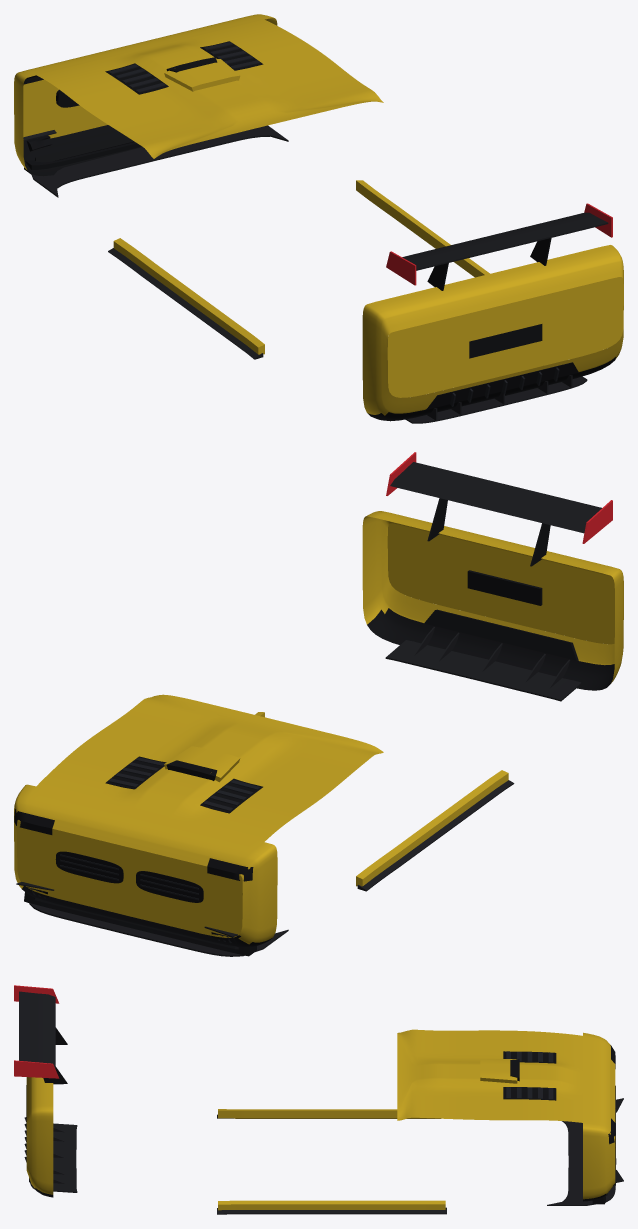
The model's file is kit_track.glb.
3 views of the same model, one above another, from view 1: azimuth 30°, elevation 25°; view 2: azimuth 150°, elevation 25°; view 3: azimuth 270°, elevation 25° (orthographic). The views are drawn at different scales.
Visible parts, largest first — view 1: bumper_front__track, hood__track, bumper_rear__track, skirts__track, spoiler__track; view 2: bumper_front__track, hood__track, bumper_rear__track, spoiler__track, skirts__track; view 3: hood__track, bumper_front__track, skirts__track, bumper_rear__track, spoiler__track.
Boxes of the visible parts, bbox=[...] form: bumper_front__track: bbox=[14, 14, 623, 397]; hood__track: bbox=[37, 19, 383, 158]; bumper_rear__track: bbox=[362, 245, 623, 423]; skirts__track: bbox=[108, 180, 489, 359]; spoiler__track: bbox=[386, 203, 612, 290]; bumper_front__track: bbox=[14, 523, 614, 956]; hood__track: bbox=[36, 694, 383, 841]; bumper_rear__track: bbox=[362, 511, 623, 701]; spoiler__track: bbox=[386, 452, 612, 566]; skirts__track: bbox=[255, 712, 514, 891]; hood__track: bbox=[397, 1029, 582, 1122]; bumper_front__track: bbox=[547, 1032, 623, 1205]; skirts__track: bbox=[217, 1109, 446, 1214]; bumper_rear__track: bbox=[24, 1077, 77, 1197]; spoiler__track: bbox=[14, 985, 67, 1084].
Size of what is drawn, in the model's own units: 1.93 by 1.28 by 5.
